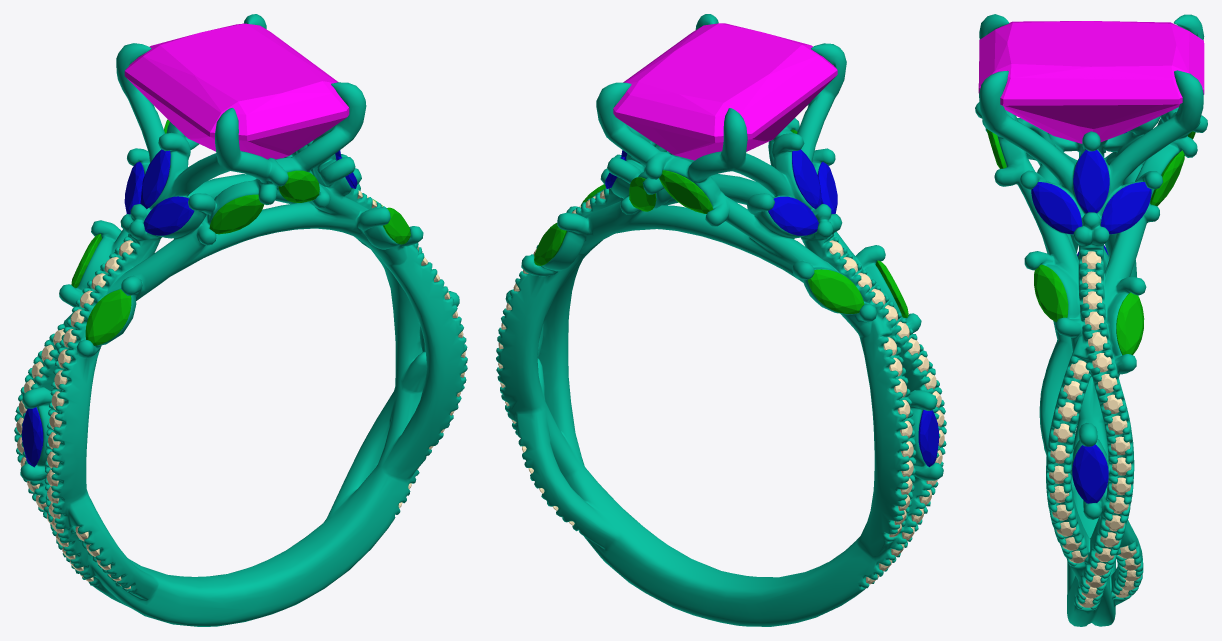
Rendered from BE1LCE6352_RA_200ct_RENDER.glb.
3 renders of one model, left to right at view 1: azimuth 30°, elevation 25°; view 2: azimuth 150°, elevation 25°; view 3: azimuth 270°, elevation 25°, orthographic.
Visible parts, largest first — view 1: Metal 01, CS_Diamond_Radiant, Emerald_Marquise_side.002, Diamond_Marquise_side.005, Emerald_Marquise_side.007, Diamond_Marquise_side.004, Emerald_Marquise_side.006, Diamond_Marquise_side.006, Diamond_Marquise_side.003, Emerald_Marquise_side.001; view 2: Metal 01, CS_Diamond_Radiant, Emerald_Marquise_side.003, Diamond_Marquise_side.003, Emerald_Marquise_side.004, Diamond_Marquise_side.004, Diamond_Marquise_side.006, Emerald_Marquise_side, Diamond_Marquise_side.005, Emerald_Marquise_side.005; view 3: Metal 01, CS_Diamond_Radiant, Diamond_Marquise_side, Diamond_Marquise_Side, Diamond_Marquise_side.001, Diamond_Marquise_side.002, Emerald_Marquise_side.001, Emerald_Marquise_side, Emerald_Marquise_side.005, Emerald_Marquise_side.006.
Boxes of the visible parts, x1=… form: Metal 01: x1=14, y1=14, x2=467, y2=626; CS_Diamond_Radiant: x1=124, y1=23, x2=349, y2=159; Emerald_Marquise_side.002: x1=85, y1=289, x2=131, y2=345; Diamond_Marquise_side.005: x1=143, y1=196, x2=194, y2=235; Emerald_Marquise_side.007: x1=209, y1=194, x2=264, y2=234; Diamond_Marquise_side.004: x1=140, y1=149, x2=170, y2=208; Emerald_Marquise_side.006: x1=278, y1=170, x2=319, y2=202; Diamond_Marquise_side.006: x1=22, y1=407, x2=43, y2=467; Diamond_Marquise_side.003: x1=124, y1=161, x2=144, y2=214; Emerald_Marquise_side.001: x1=383, y1=207, x2=410, y2=244; Metal 01: x1=496, y1=14, x2=946, y2=626; CS_Diamond_Radiant: x1=613, y1=23, x2=837, y2=160; Emerald_Marquise_side.003: x1=808, y1=269, x2=864, y2=313; Diamond_Marquise_side.003: x1=768, y1=196, x2=818, y2=235; Emerald_Marquise_side.004: x1=659, y1=170, x2=713, y2=213; Diamond_Marquise_side.004: x1=792, y1=149, x2=821, y2=209; Diamond_Marquise_side.006: x1=918, y1=409, x2=939, y2=466; Emerald_Marquise_side: x1=534, y1=223, x2=566, y2=265; Diamond_Marquise_side.005: x1=817, y1=161, x2=837, y2=213; Emerald_Marquise_side.005: x1=629, y1=177, x2=656, y2=211; Metal 01: x1=975, y1=14, x2=1207, y2=626; CS_Diamond_Radiant: x1=978, y1=21, x2=1204, y2=143; Diamond_Marquise_side: x1=1073, y1=149, x2=1109, y2=213; Diamond_Marquise_Side: x1=1031, y1=182, x2=1082, y2=234; Diamond_Marquise_side.001: x1=1100, y1=182, x2=1151, y2=234; Diamond_Marquise_side.002: x1=1072, y1=444, x2=1108, y2=503; Emerald_Marquise_side.001: x1=1034, y1=264, x2=1068, y2=321; Emerald_Marquise_side: x1=1116, y1=292, x2=1144, y2=355; Emerald_Marquise_side.005: x1=1150, y1=150, x2=1184, y2=206; Emerald_Marquise_side.006: x1=986, y1=129, x2=1006, y2=168.
Bounding box in the file's own units: 21.21 × 25.49 × 9.59.
